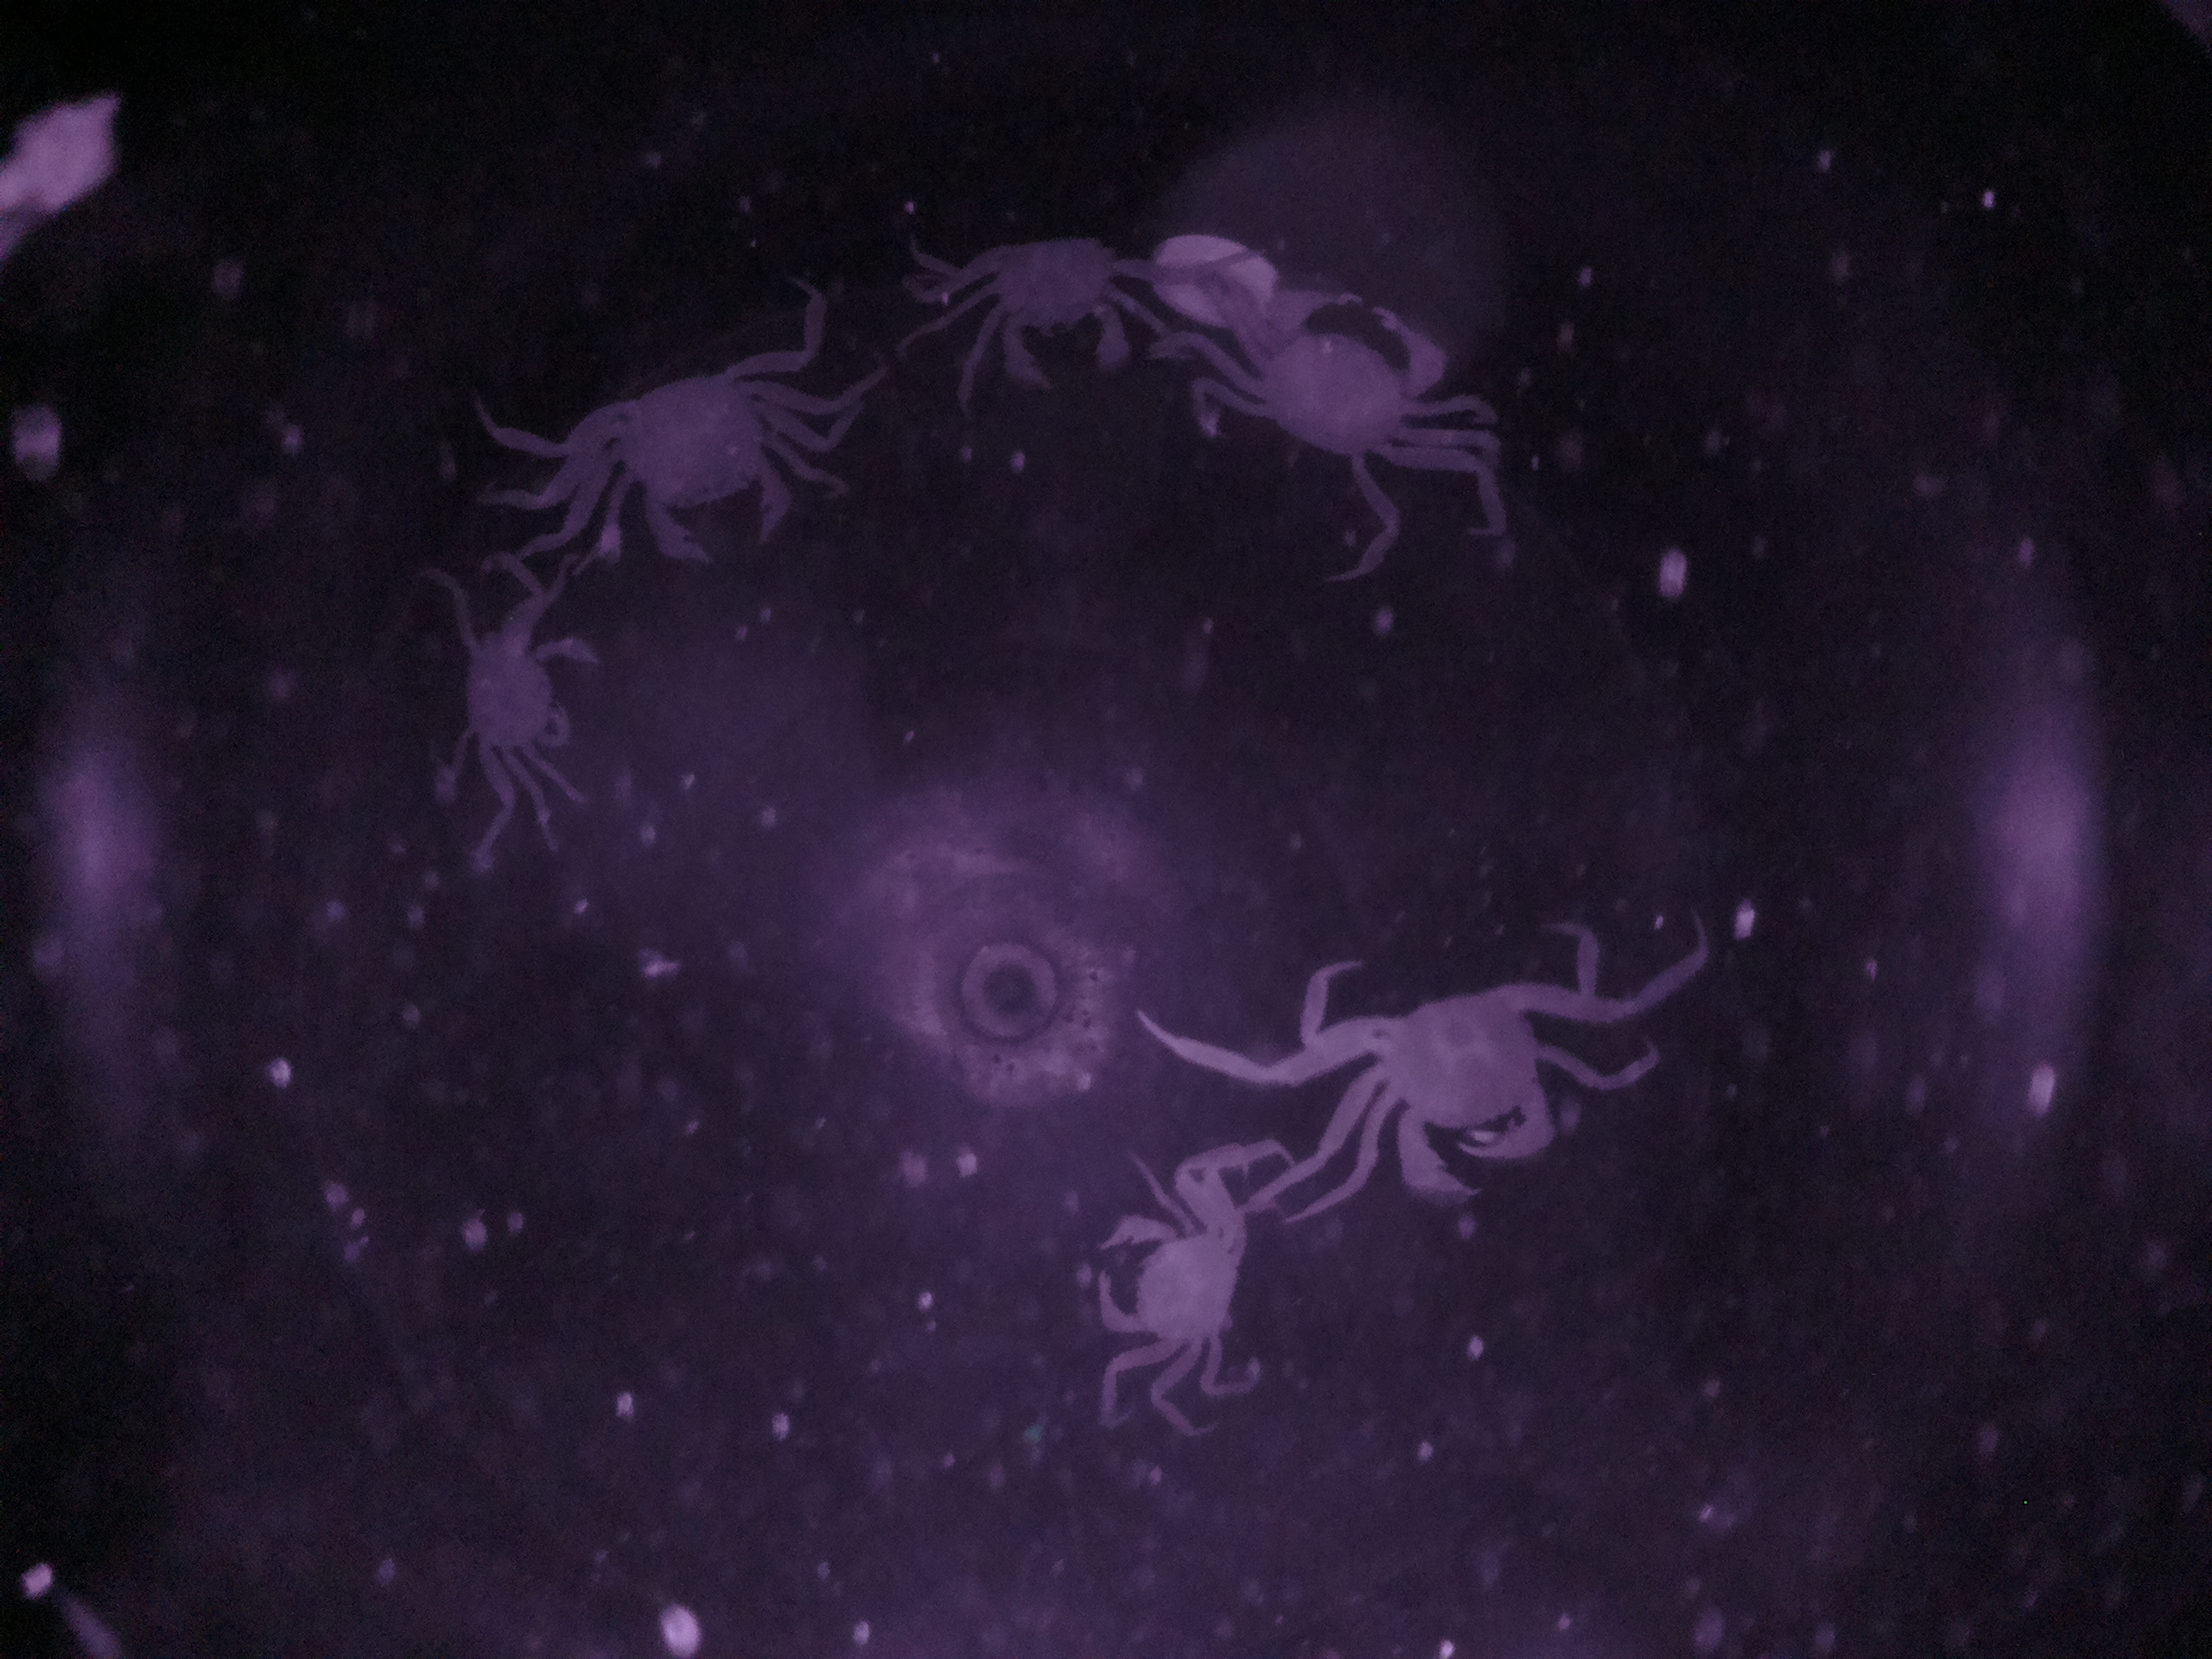Crab: (1261, 957, 1639, 1211), (561, 340, 853, 591), (1193, 268, 1505, 481), (1080, 1157, 1271, 1412), (418, 573, 622, 796), (956, 209, 1170, 410)
